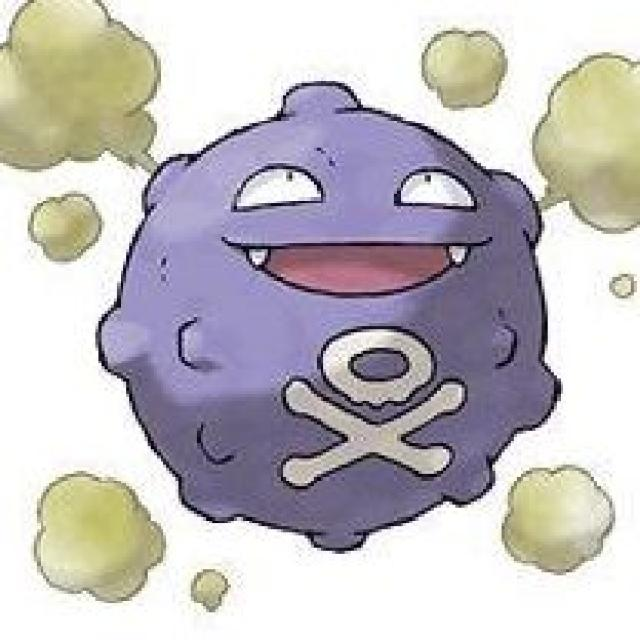Koffing: (106, 80, 550, 551)
